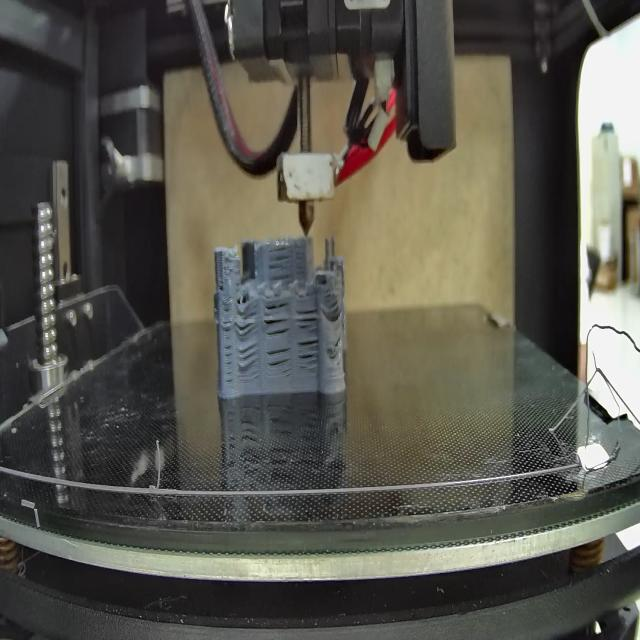cracks: (221, 304, 235, 386), (264, 300, 292, 340), (267, 247, 294, 280), (267, 345, 292, 377), (298, 336, 319, 372), (294, 304, 319, 331), (235, 308, 257, 336), (239, 342, 258, 370), (329, 298, 342, 322), (216, 279, 228, 293), (332, 332, 341, 350)
